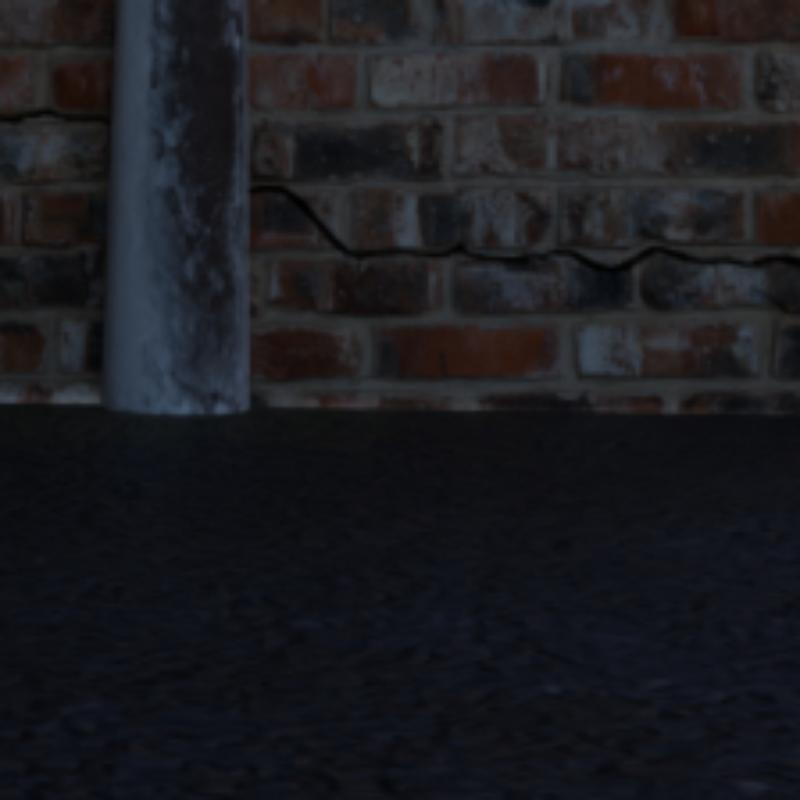pothole: (250, 186, 385, 257), (487, 246, 777, 271), (21, 107, 107, 125), (385, 250, 446, 254), (446, 243, 467, 252), (0, 114, 21, 121), (780, 257, 796, 264)
